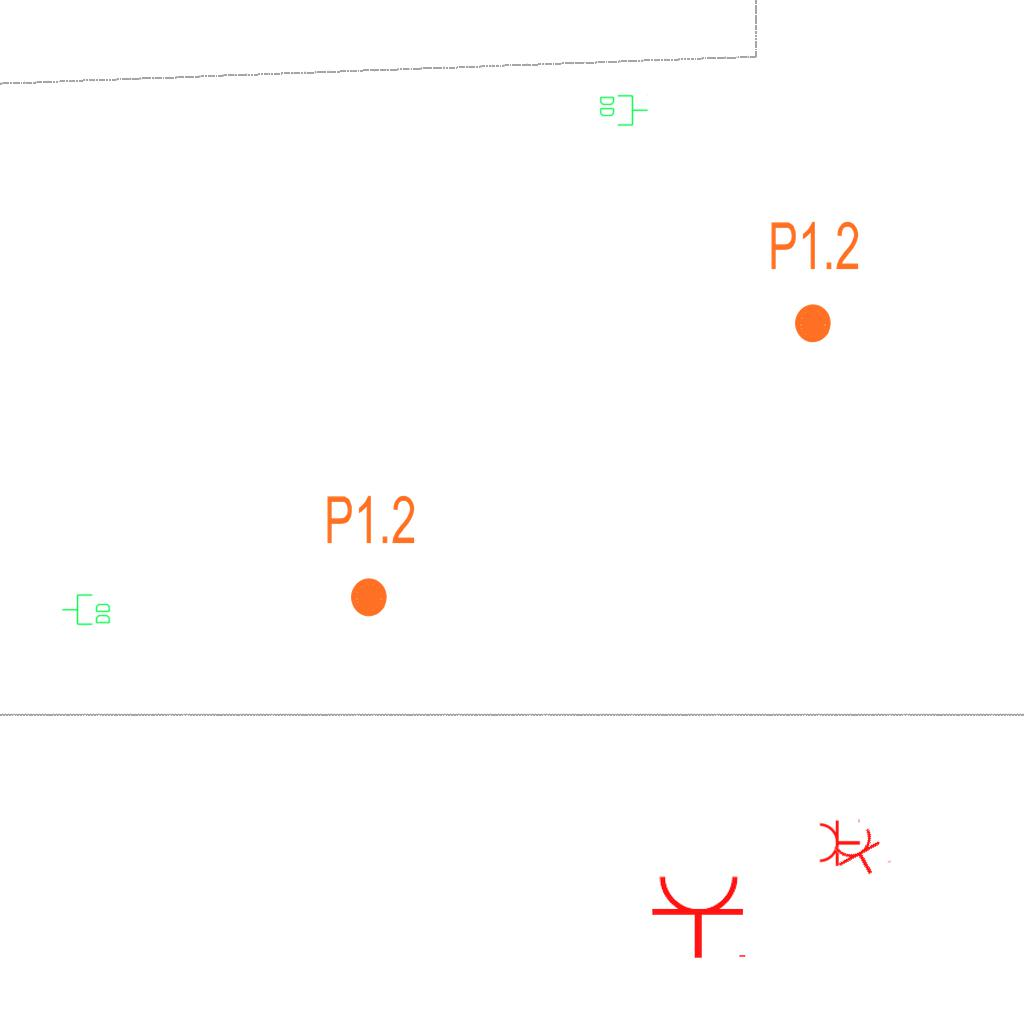Datenanschluss_zweifach: (61, 593, 112, 627), (598, 93, 649, 127)
Downlight_LED_Einbauleuchten_Flur: (768, 218, 861, 346), (324, 492, 417, 620)
Schukosteckdose_einfach: (650, 873, 750, 960), (829, 824, 894, 886), (818, 817, 861, 867)
